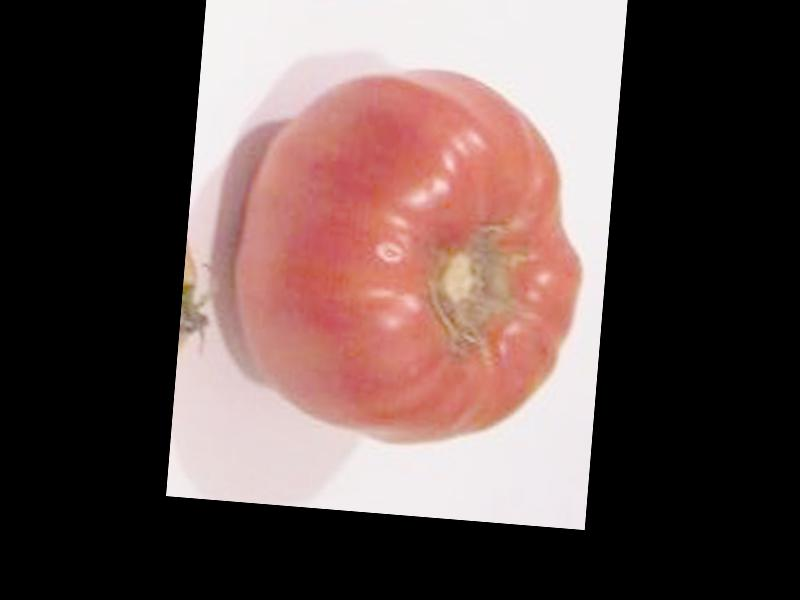Tomato: (228, 60, 595, 455)
